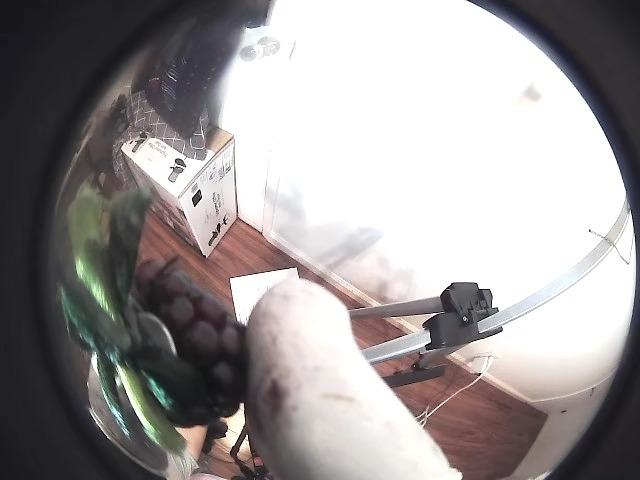berry: (60, 189, 246, 455)
gripper: (246, 279, 460, 479), (89, 367, 121, 441)
lense: (0, 0, 183, 479), (478, 0, 639, 233), (553, 236, 639, 479)
